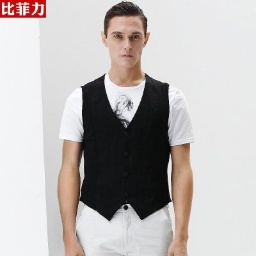face: (98, 1, 152, 69)
